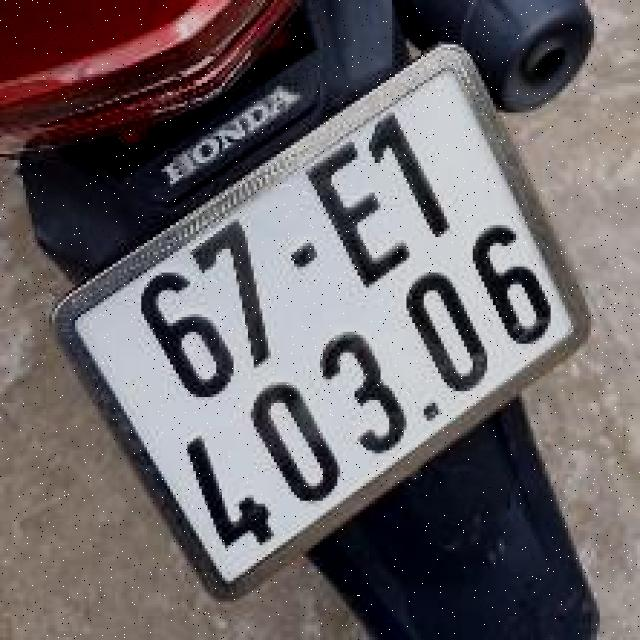0: (229, 363, 356, 520), (388, 248, 507, 410)
1: (346, 94, 475, 257)
3: (303, 310, 423, 470)
4: (157, 419, 296, 575)
6: (123, 254, 253, 419), (456, 206, 566, 364)
7: (181, 207, 308, 383)
E: (294, 126, 427, 304)
